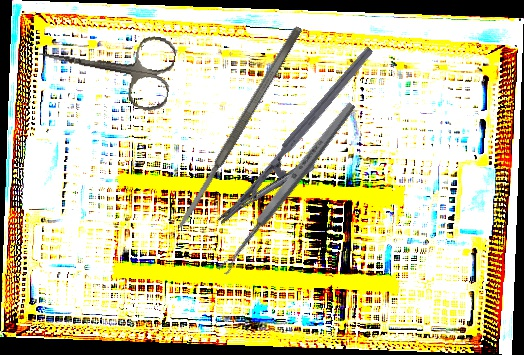Iris Scissors: (32, 15, 179, 115)
Needle Holder: (215, 45, 399, 247)
Spatula Surgical: (173, 24, 305, 232)
Surgical Spoon: (216, 100, 358, 276)
